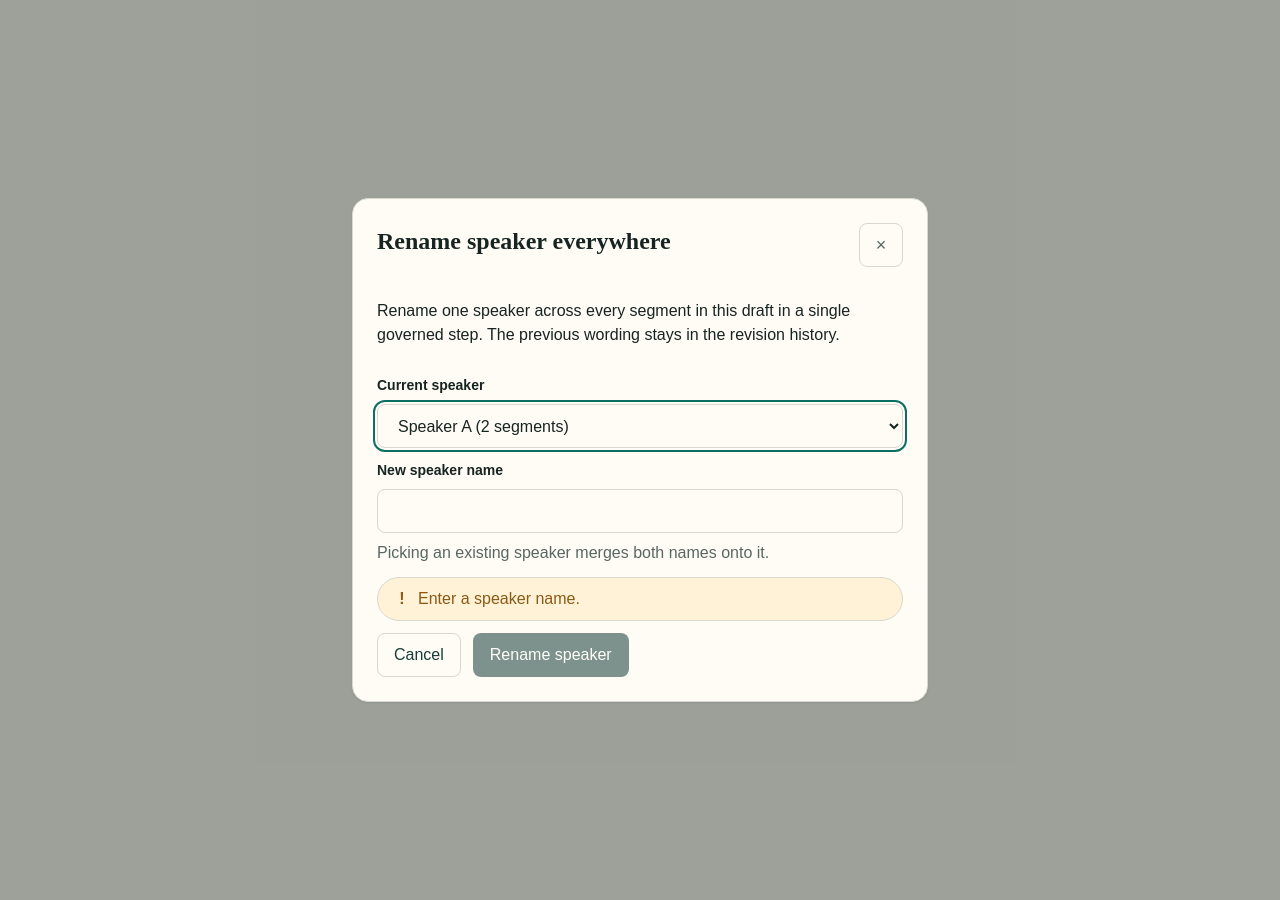
Test: SpeakerRenameDialog › shows the pre-commit batch summary once a new name is entered
This screenshot has width=1280, height=900.
In the field labelled "New speaker name": (640, 511) [377, 489, 903, 533], type "Dana"
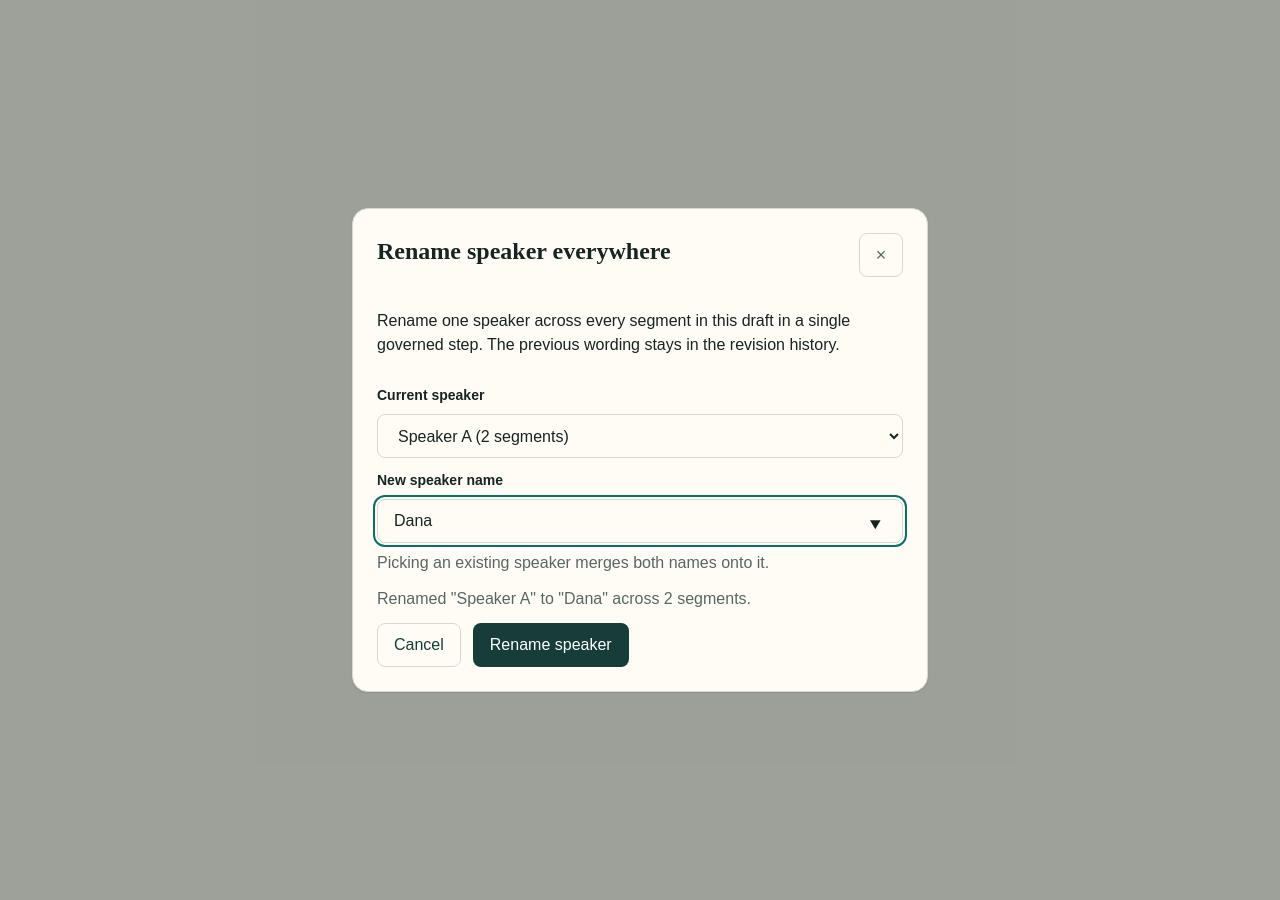
Check: the text with test id "speaker-rename-summary" reads "Renamed \"Speaker A\" to \"Dana\" across 2 segments.", box [377, 590, 751, 607]
Check: the button "Rename speaker" is enabled, box [473, 623, 629, 667]
